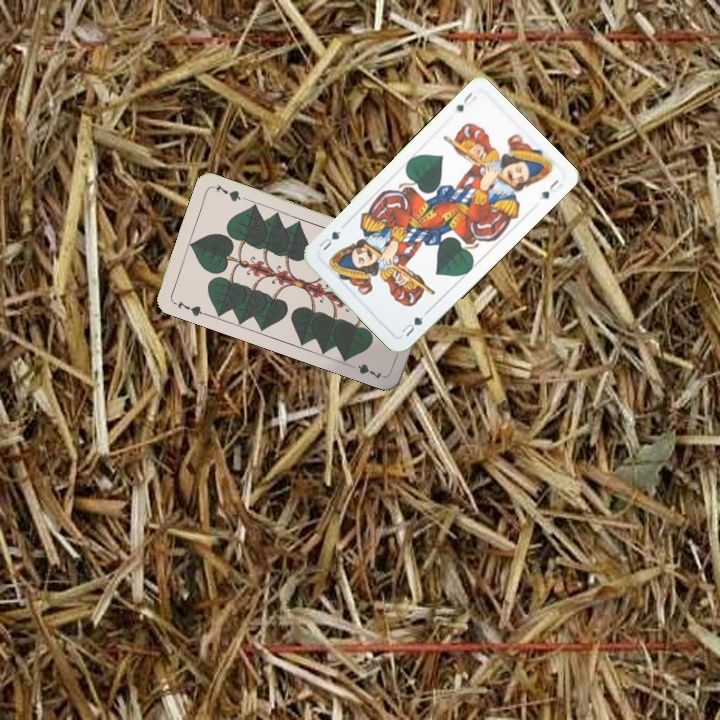G7: (169, 296, 208, 319)
GU: (397, 313, 426, 339), (452, 88, 479, 115)
